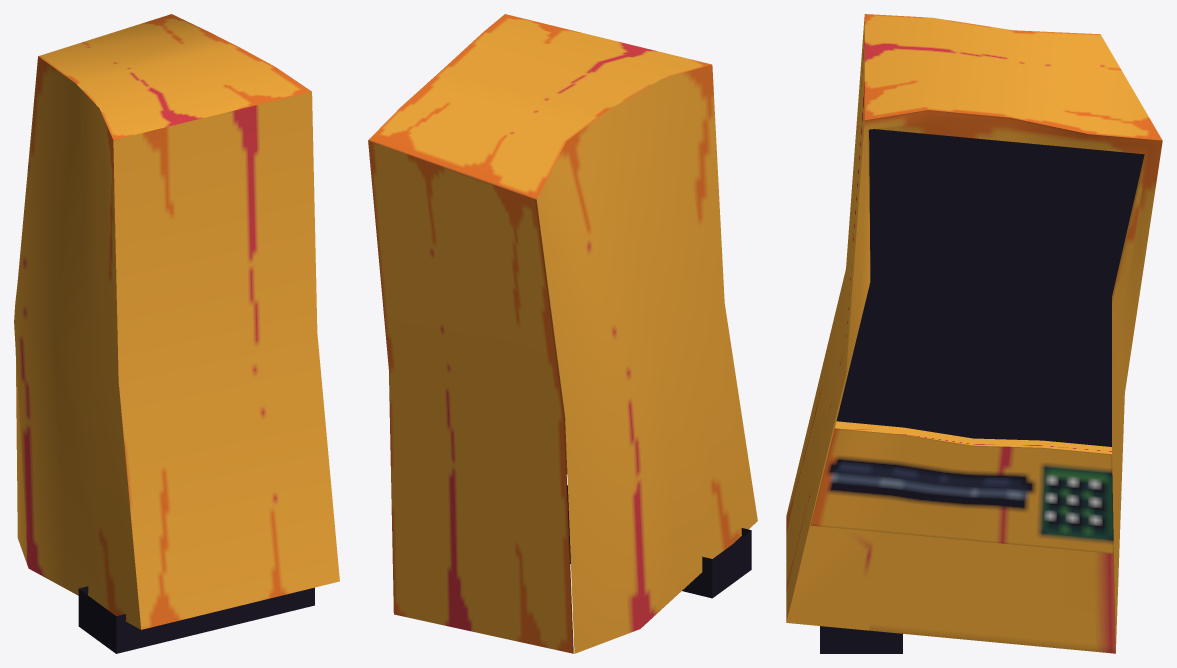
Rendered from MaquinaDeRefrigeranteQuebrada.fbx.
The picture shows the model from 3 angles, left to right: view 1: azimuth 30°, elevation 25°; view 2: azimuth 150°, elevation 25°; view 3: azimuth 270°, elevation 25°; orthographic projection. The views are drawn at different scales.
Visible parts, largest first — view 1: máquina; view 2: máquina; view 3: máquina.
Part boxes in pixels (x1=…): máquina: x1=14, y1=14, x2=339, y2=653; máquina: x1=368, y1=14, x2=757, y2=653; máquina: x1=786, y1=14, x2=1162, y2=653.
Bounding box in the file's own units: 107 × 146 × 236.
